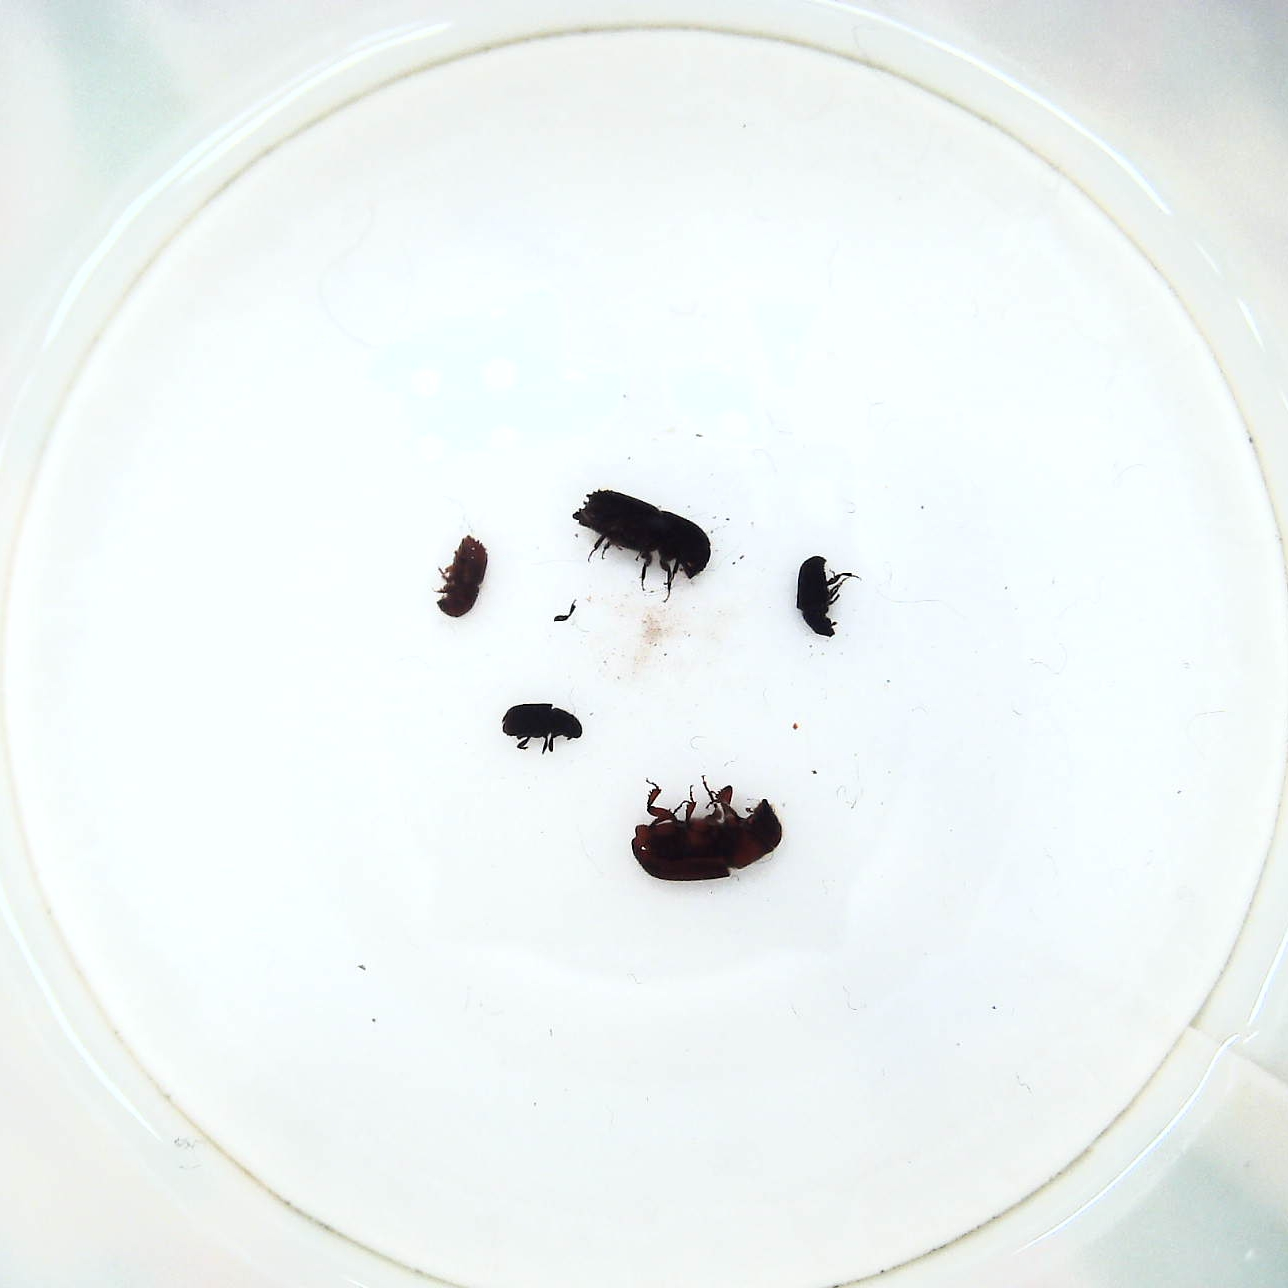Boerner: (569, 484, 715, 597)
Leconte: (627, 775, 791, 889)
armandi: (495, 699, 585, 756)
coleoptera: (790, 556, 863, 639)
linnaeus: (434, 531, 493, 619)
